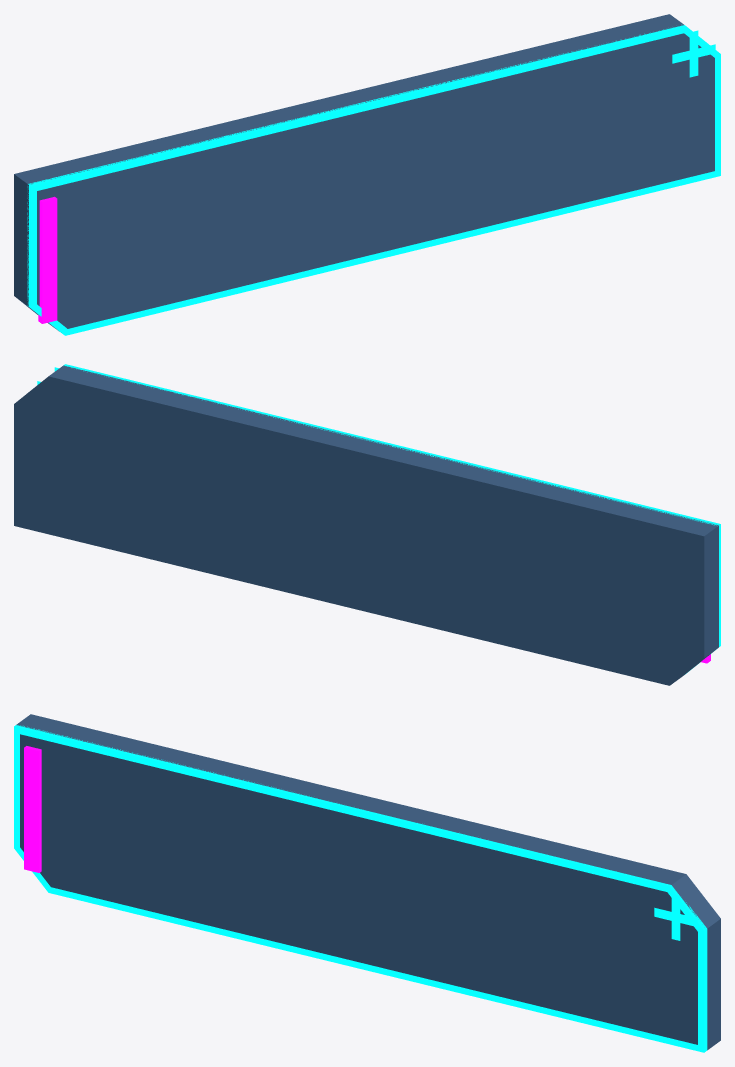
Rendered from cyber_button_mesh.glb.
3 renders of one model, top to bottom at view 1: azimuth 30°, elevation 25°; view 2: azimuth 150°, elevation 25°; view 3: azimuth 330°, elevation 25°, orthographic.
Parts seen in each view (by area): view 1: CyberButton, NeonBorder, NeonBar, CornerReticle; view 2: CyberButton, NeonBorder; view 3: CyberButton, NeonBorder, NeonBar, CornerReticle.
Boxes of the visible parts, x1,y1,x2,y2 form: CyberButton: (14,14,714,331); NeonBorder: (27,24,720,335); NeonBar: (38,196,57,323); CornerReticle: (672,30,715,77); CyberButton: (14,365,718,685); NeonBorder: (63,364,720,673); CyberButton: (16,714,720,1050); NeonBorder: (14,725,707,1052); NeonBar: (24,746,41,872); CornerReticle: (654,894,697,940).
Size of the model in its own units: 3.2 by 0.7 by 0.14.
